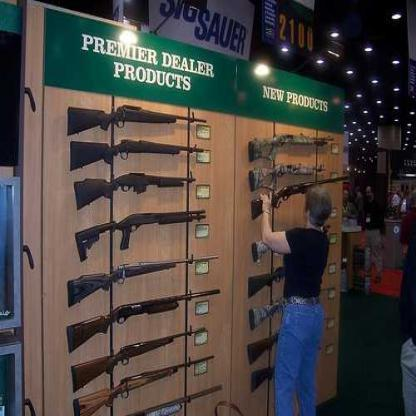rifle: (67, 278, 227, 354), (63, 315, 210, 393), (61, 246, 225, 311), (71, 202, 216, 263), (247, 162, 358, 225), (57, 109, 213, 140), (66, 144, 210, 175), (74, 172, 199, 206)
